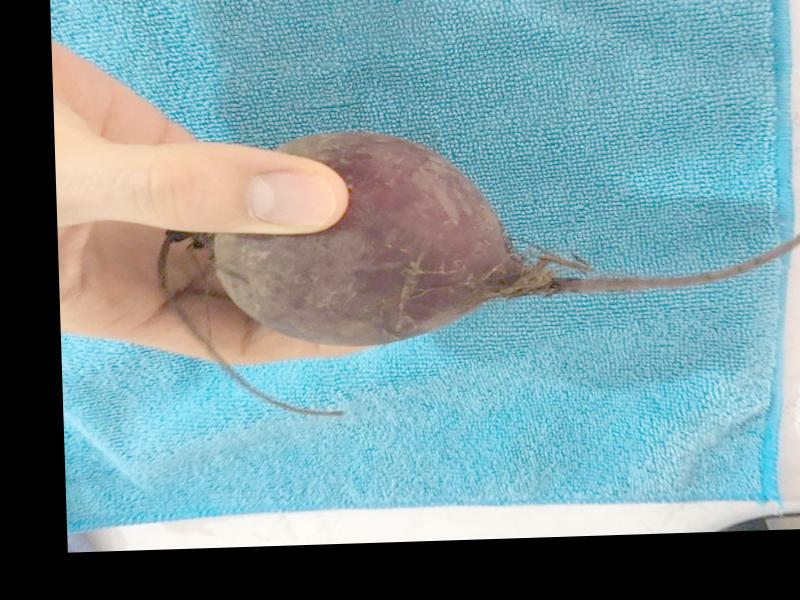Beet: (155, 116, 800, 419)
